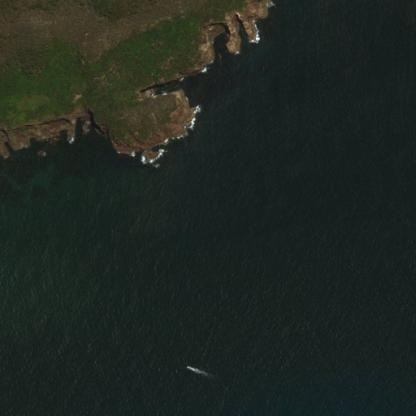ship: (20, 366, 24, 368)
